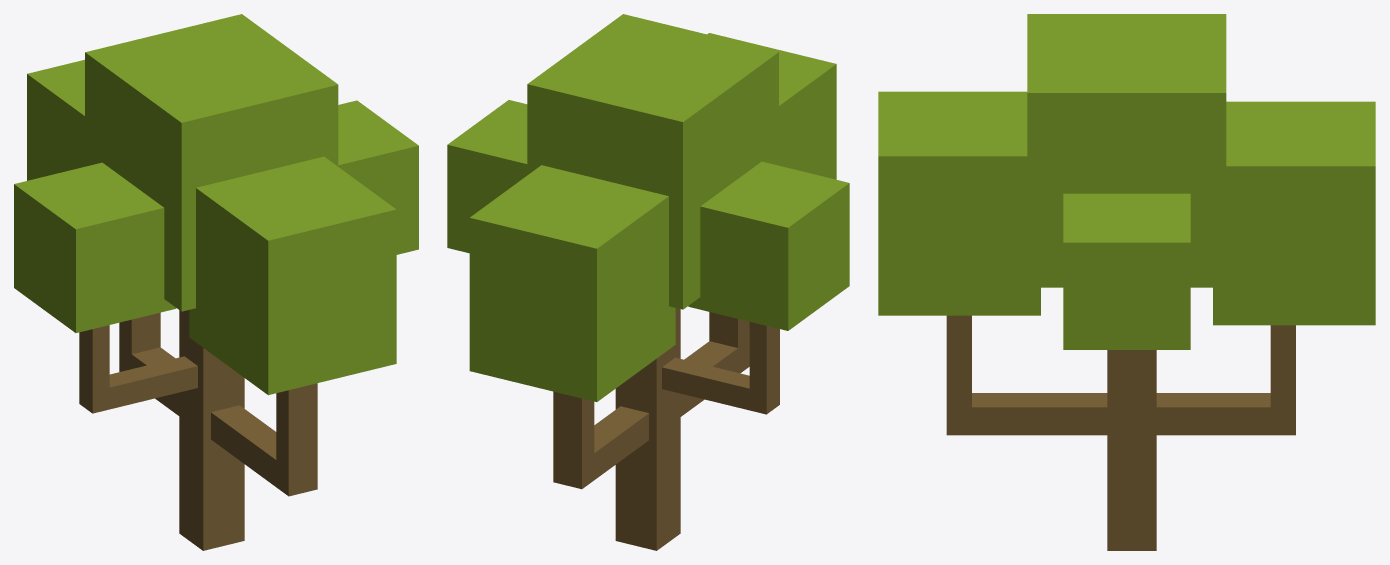
Rendered from tree1.FBX.
The picture shows the model from 3 angles, left to right: view 1: azimuth 30°, elevation 25°; view 2: azimuth 150°, elevation 25°; view 3: azimuth 270°, elevation 25°; orthographic projection. The views are drawn at different scales.
Visible parts, largest first — view 1: tree1; view 2: tree1; view 3: tree1.
Boxes of the visible parts, box(x1,y1,x2,y2) form: tree1: box(14, 14, 418, 550); tree1: box(447, 14, 849, 550); tree1: box(878, 14, 1375, 550).
Bounding box in the file's own units: 8.28 × 10.87 × 10.09.
